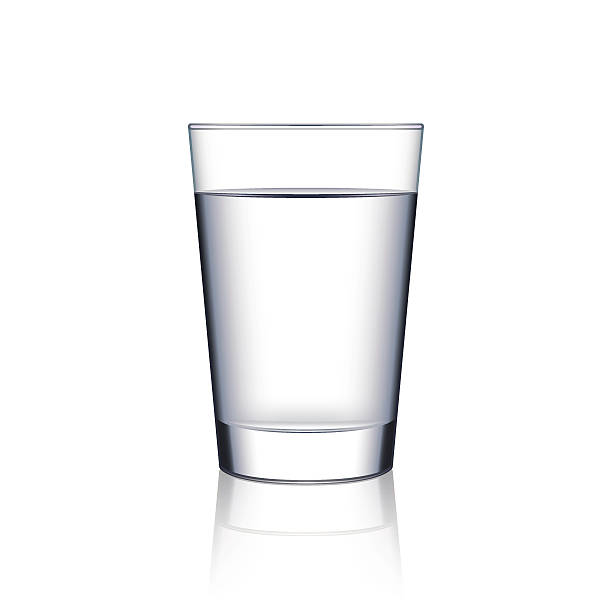glass of water: (171, 99, 427, 504)
